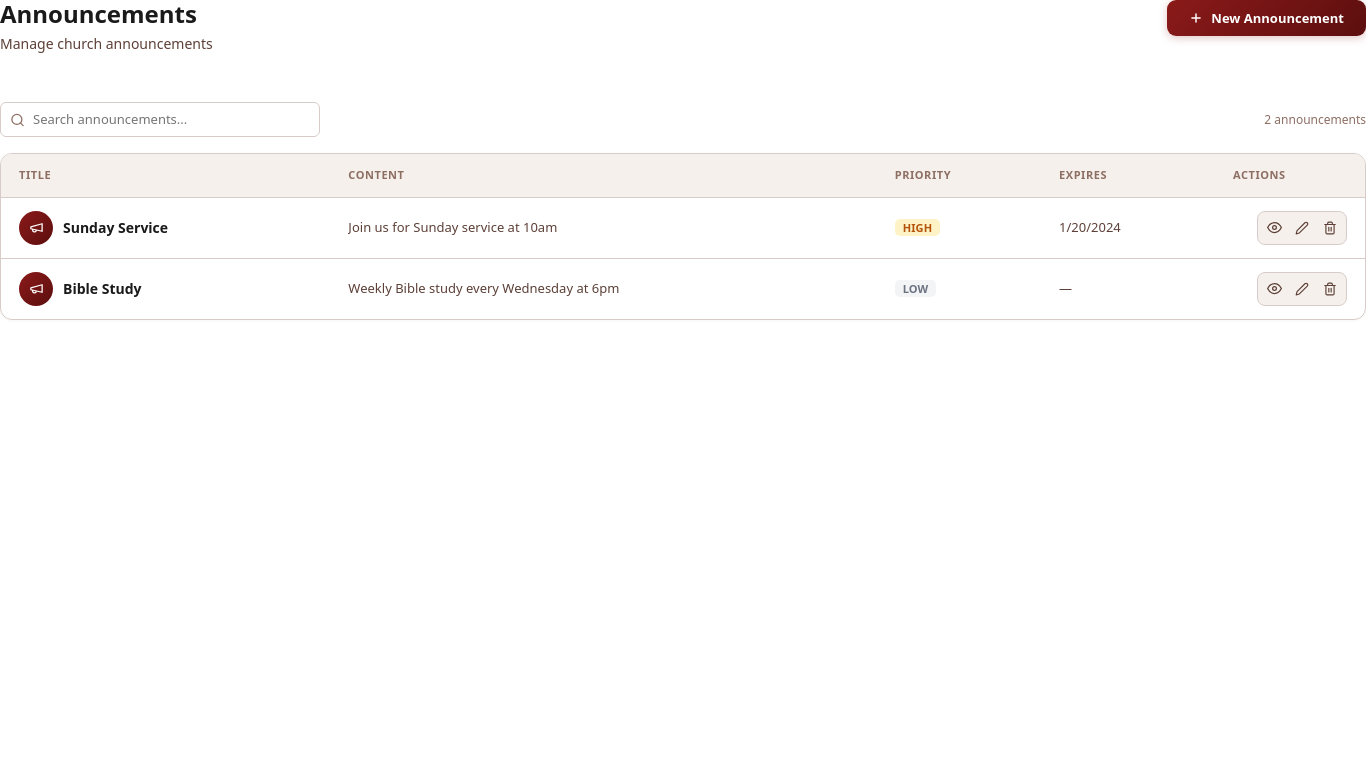
Test case: Announcements › opens the read-only view modal for a single announcement
What coordinates should you click on to do the following:
click the button named "View" in the row of "Join us for Sunday service at 10am"
I would click on:
 (1274, 228)
Its box is [1260,214,1288,242].
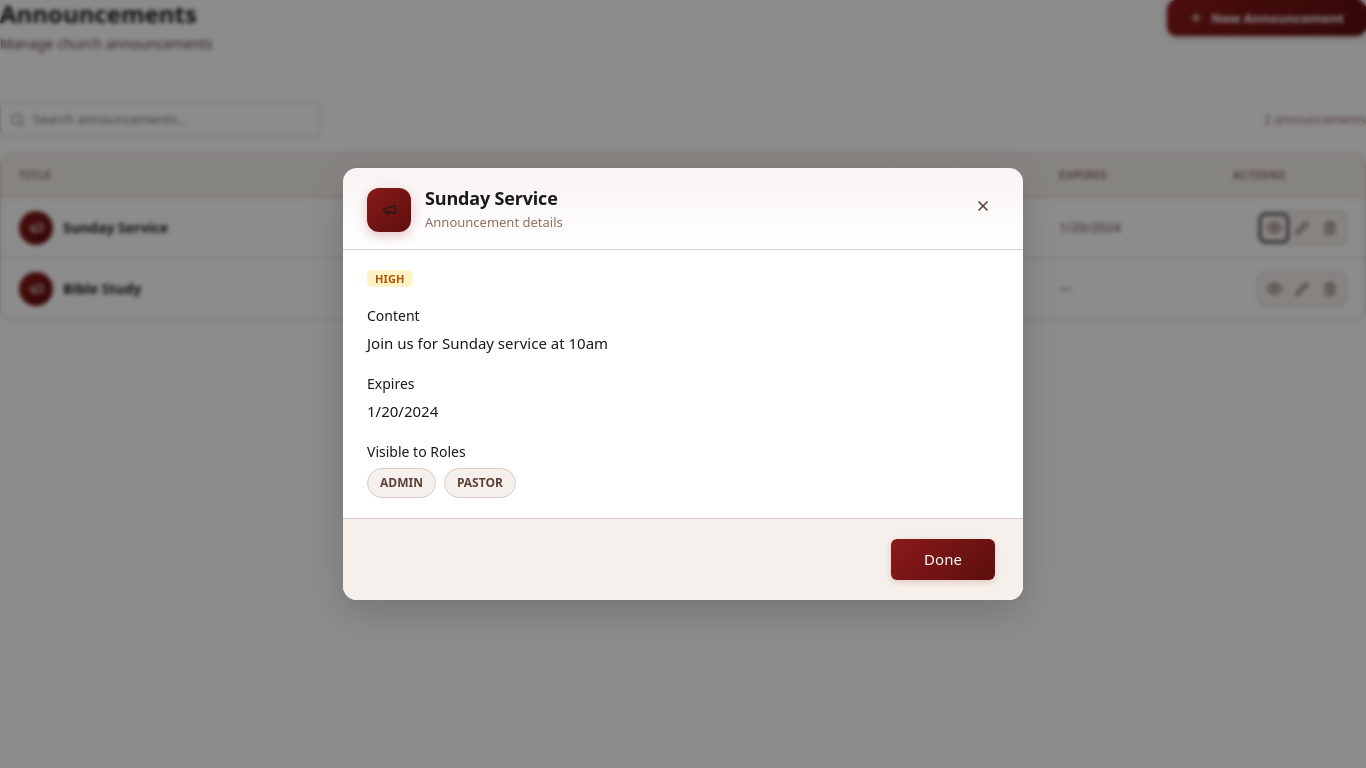
Expected: the dialog with class "announcement-dialog" is shown, [343,168,1023,600]
Expected: the heading "Sunday Service" is shown, [425,186,558,210]
Expected: the text "Join us for Sunday service at 10am" is shown, [367,333,608,353]
